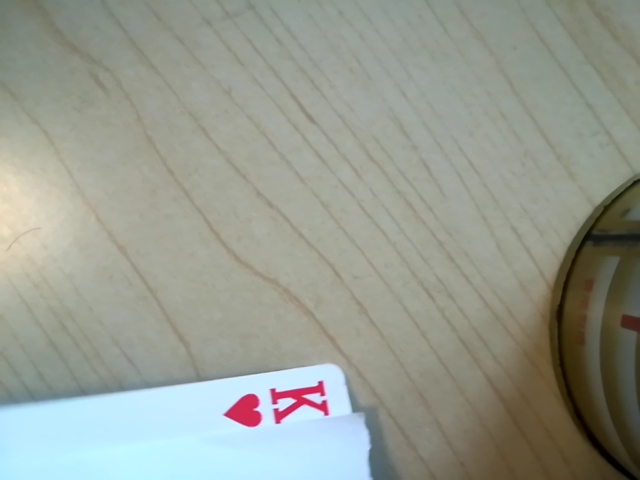hx k: (221, 372, 347, 432)
